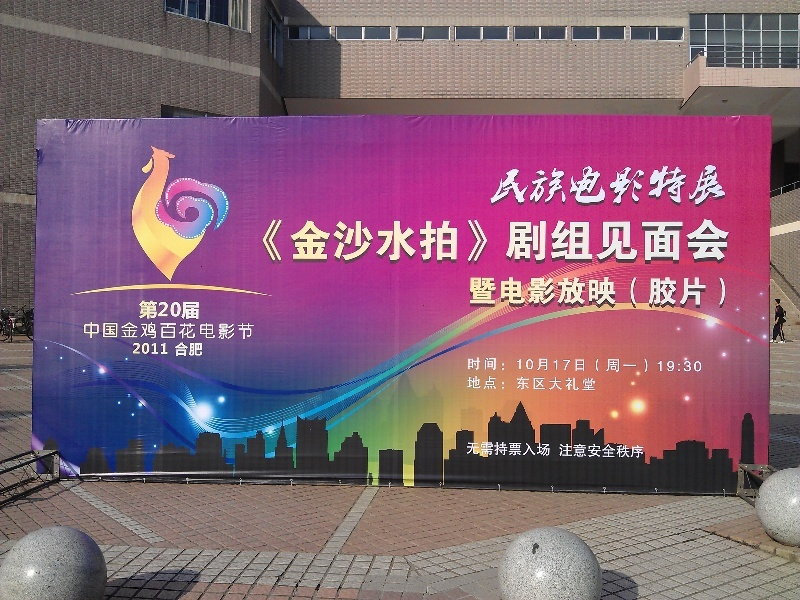text: (273, 219, 288, 265), (289, 219, 304, 265), (305, 219, 320, 265), (321, 219, 336, 265), (337, 219, 352, 265), (353, 219, 368, 265), (369, 219, 384, 265), (385, 219, 400, 265), (401, 219, 416, 265), (417, 219, 432, 265), (433, 219, 448, 265), (449, 219, 464, 265), (465, 219, 480, 265), (481, 219, 496, 265), (497, 219, 512, 265), (513, 219, 528, 265), (529, 219, 544, 265), (545, 219, 560, 265), (561, 219, 576, 265), (577, 219, 592, 265), (593, 219, 608, 265), (609, 219, 624, 265), (625, 219, 640, 265), (641, 219, 656, 265), (657, 219, 672, 265), (673, 219, 688, 265), (689, 219, 704, 265), (705, 219, 720, 265), (497, 164, 512, 207), (513, 164, 528, 207), (529, 164, 544, 207), (545, 164, 560, 207), (561, 164, 576, 207), (577, 164, 592, 207), (593, 164, 608, 207), (609, 164, 624, 207), (625, 164, 640, 207), (641, 164, 656, 207), (657, 164, 672, 207), (673, 164, 688, 207), (689, 164, 704, 207), (705, 164, 720, 207), (481, 276, 496, 310), (497, 276, 512, 310), (513, 276, 528, 310), (529, 276, 544, 310), (545, 276, 560, 310), (561, 276, 576, 310), (577, 276, 592, 310), (593, 276, 608, 310), (609, 276, 624, 310), (625, 276, 640, 310), (641, 276, 656, 310), (657, 276, 672, 310), (673, 276, 688, 310), (689, 276, 704, 310), (705, 276, 720, 310), (721, 219, 732, 265), (263, 219, 272, 265), (469, 276, 480, 310), (145, 299, 160, 322), (161, 299, 176, 322), (177, 299, 192, 322), (721, 164, 729, 207), (481, 373, 496, 394), (497, 373, 512, 394), (513, 373, 528, 394), (529, 373, 544, 394), (545, 373, 560, 394), (561, 373, 576, 394), (577, 373, 592, 394), (689, 357, 705, 376), (81, 321, 96, 341), (97, 321, 112, 341), (113, 321, 128, 341), (129, 321, 144, 341), (145, 321, 160, 341), (161, 321, 176, 341), (177, 321, 192, 341), (193, 321, 208, 341), (209, 321, 224, 341), (225, 321, 240, 341), (241, 321, 256, 341), (481, 357, 496, 376), (497, 357, 512, 376), (513, 357, 528, 376), (529, 357, 544, 376), (545, 357, 560, 376), (561, 357, 576, 376), (577, 357, 592, 376), (593, 357, 608, 376), (609, 357, 624, 376), (625, 357, 640, 376), (641, 357, 656, 376), (657, 357, 672, 376), (673, 357, 688, 376), (467, 373, 480, 394), (721, 276, 729, 310), (490, 164, 496, 207), (481, 441, 496, 458), (497, 441, 512, 458), (513, 441, 528, 458), (529, 441, 544, 458), (467, 357, 480, 376), (561, 443, 576, 459), (577, 443, 592, 459), (593, 443, 608, 459), (609, 443, 624, 459), (625, 443, 640, 459), (466, 441, 480, 458), (193, 299, 203, 322), (145, 342, 160, 357), (177, 342, 192, 357), (133, 342, 144, 357), (193, 342, 203, 357), (138, 299, 144, 322), (161, 342, 170, 357), (593, 373, 599, 394), (545, 441, 551, 458), (641, 443, 646, 459), (174, 342, 176, 357), (257, 321, 258, 341), (559, 443, 560, 459)
